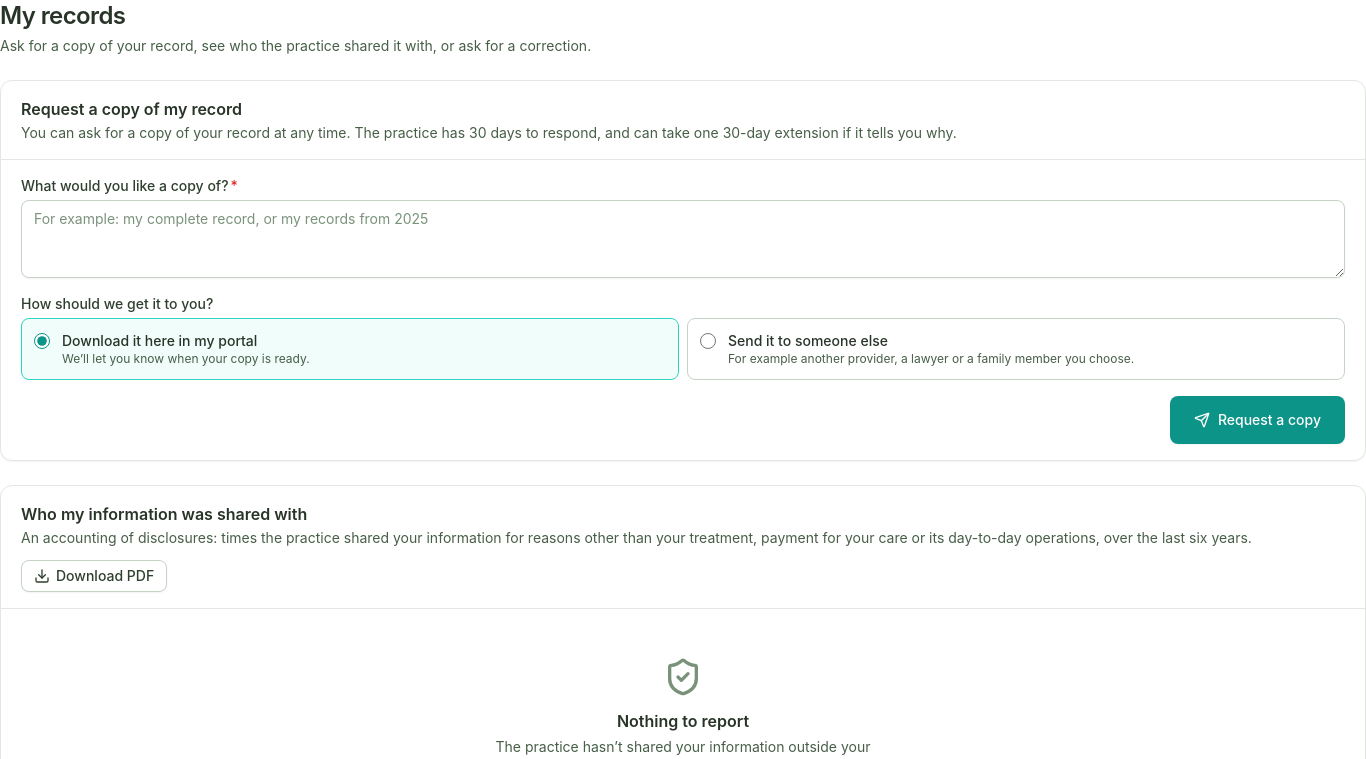
Test: ClientRecordsPage › requesting a copy › sends a portal request with what the client asked for
This screenshot has width=1366, height=759.
Type "  My complete record  " into the text box labelled "What would you like a copy of?*" at (683, 239), box [21,200,1345,278]
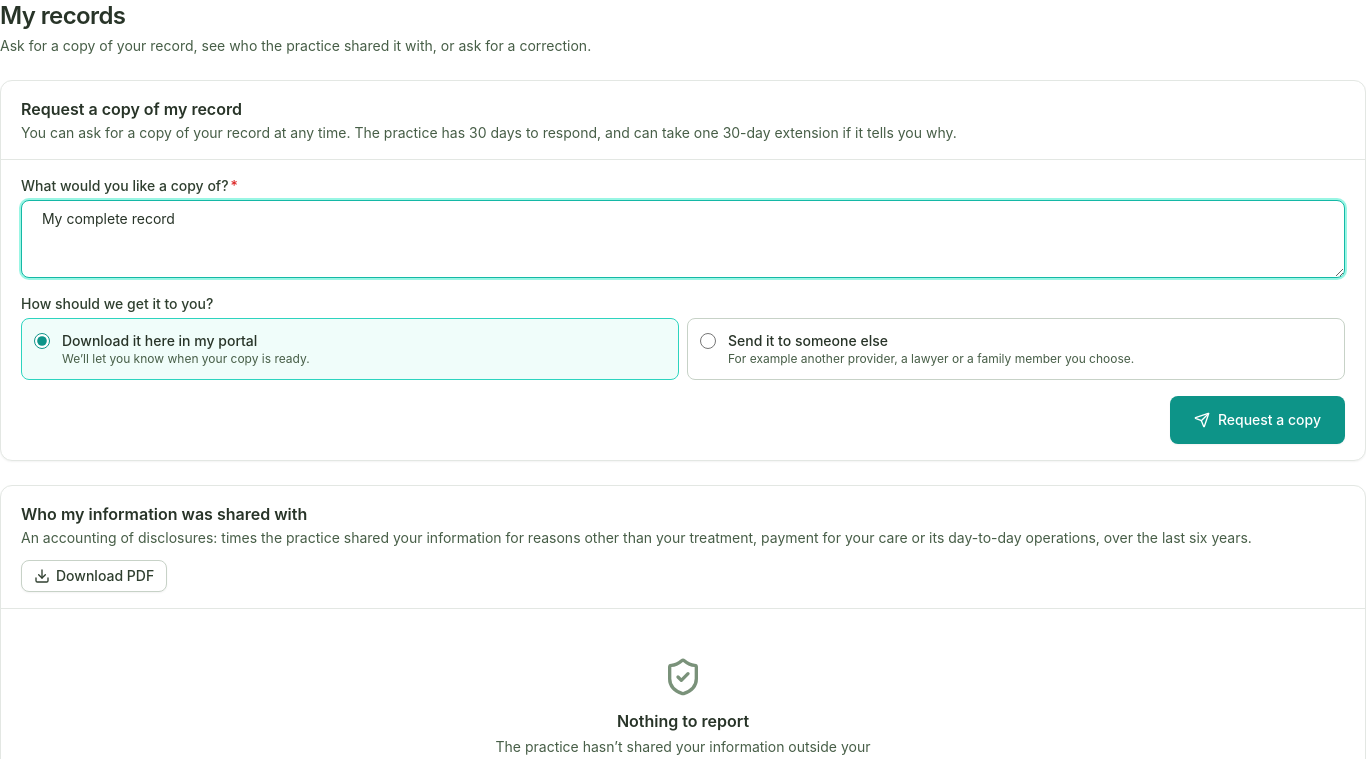
Click the button "Request a copy" at (1257, 420), box [1170,396,1345,444]
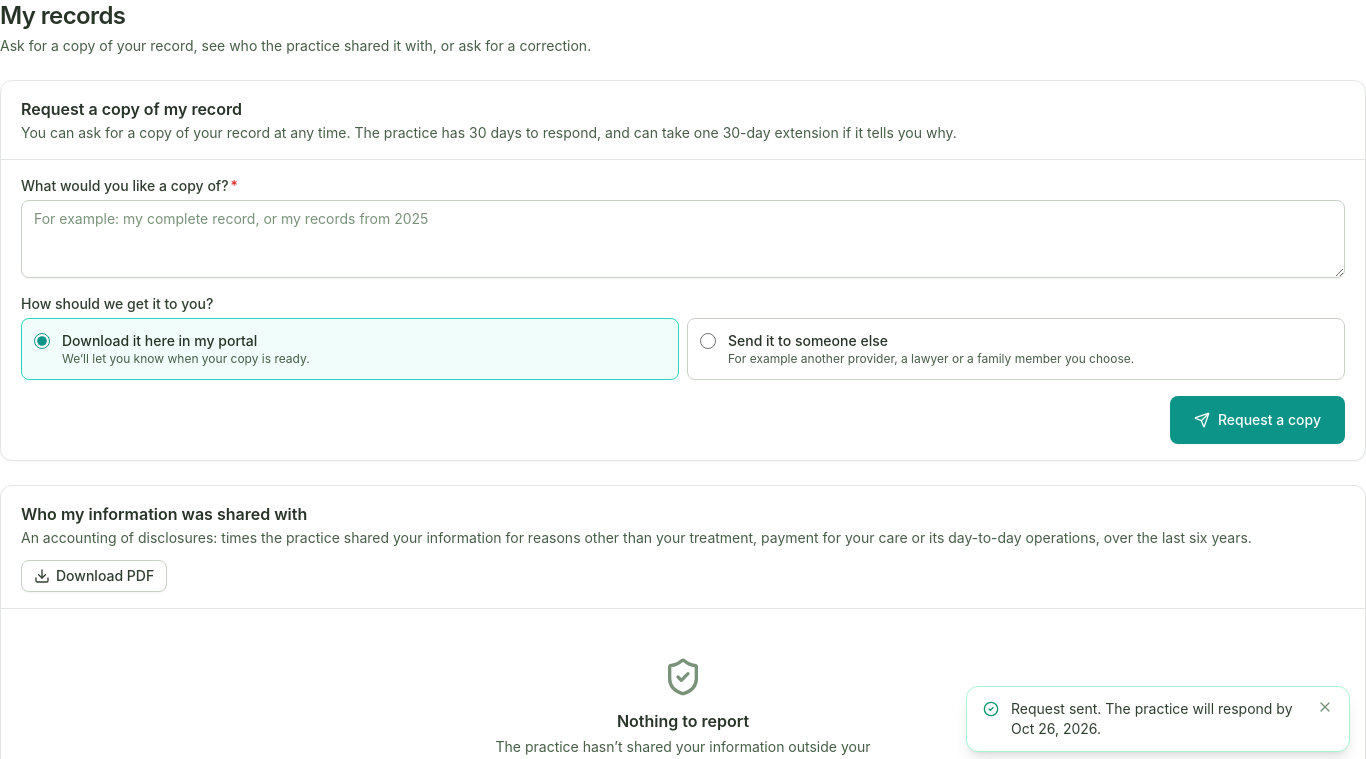
Check: the text "Request sent. The practice will respond by Oct 26, 2026." is shown, box [1011,699,1305,739]
